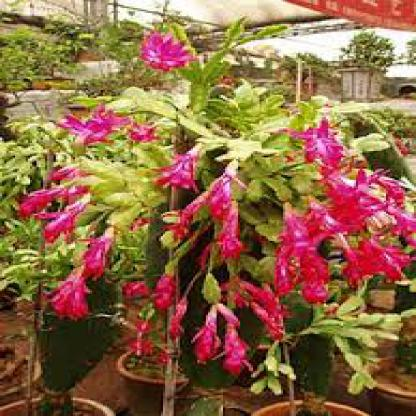Aglonema: (12, 3, 410, 406)
